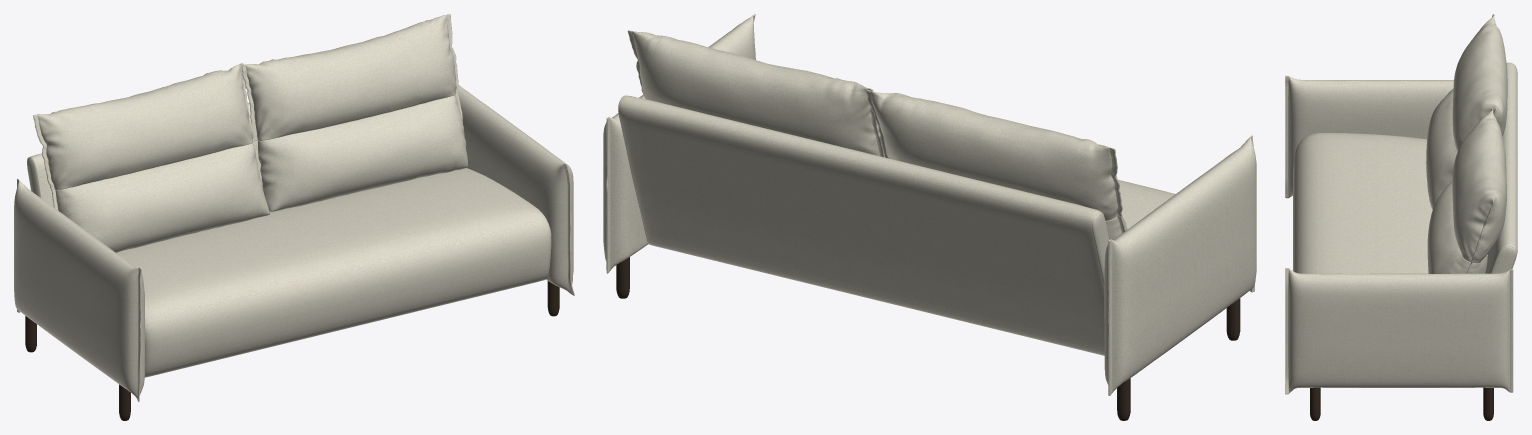
File: mannarp_sofa_3_osobowa_29619157.glb
The picture shows the model from 3 angles, left to right: view 1: azimuth 30°, elevation 25°; view 2: azimuth 150°, elevation 25°; view 3: azimuth 270°, elevation 25°; orthographic projection. The views are drawn at different scales.
Parts seen in each view (by area): view 1: mannarp_sofa_3_osobowa_29619157; view 2: mannarp_sofa_3_osobowa_29619157; view 3: mannarp_sofa_3_osobowa_29619157.
Boxes of the visible parts, left/top/right/bottom form: mannarp_sofa_3_osobowa_29619157: left=14, top=14, right=574, bottom=420; mannarp_sofa_3_osobowa_29619157: left=603, top=14, right=1256, bottom=420; mannarp_sofa_3_osobowa_29619157: left=1285, top=14, right=1517, bottom=420.
Size of the model in its own units: 1.98 by 0.9701 by 0.9498.
Materials: 2 (2 with a texture image).
